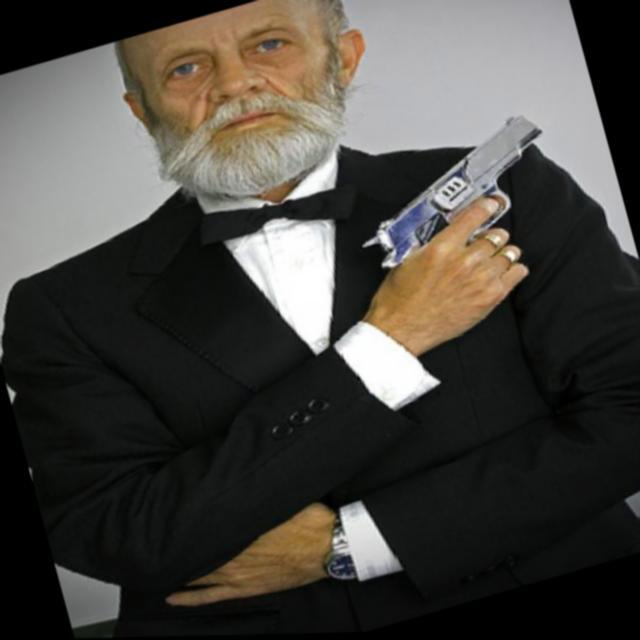weapon: (338, 109, 565, 278)
